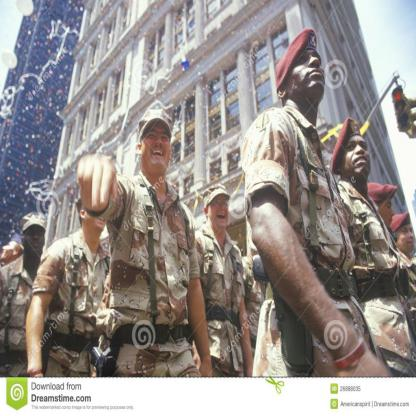face: (287, 46, 327, 86), (142, 121, 170, 165), (343, 134, 372, 172), (86, 195, 107, 229), (210, 192, 230, 227), (26, 223, 44, 255), (379, 199, 396, 232), (399, 221, 415, 250), (2, 242, 20, 260)
